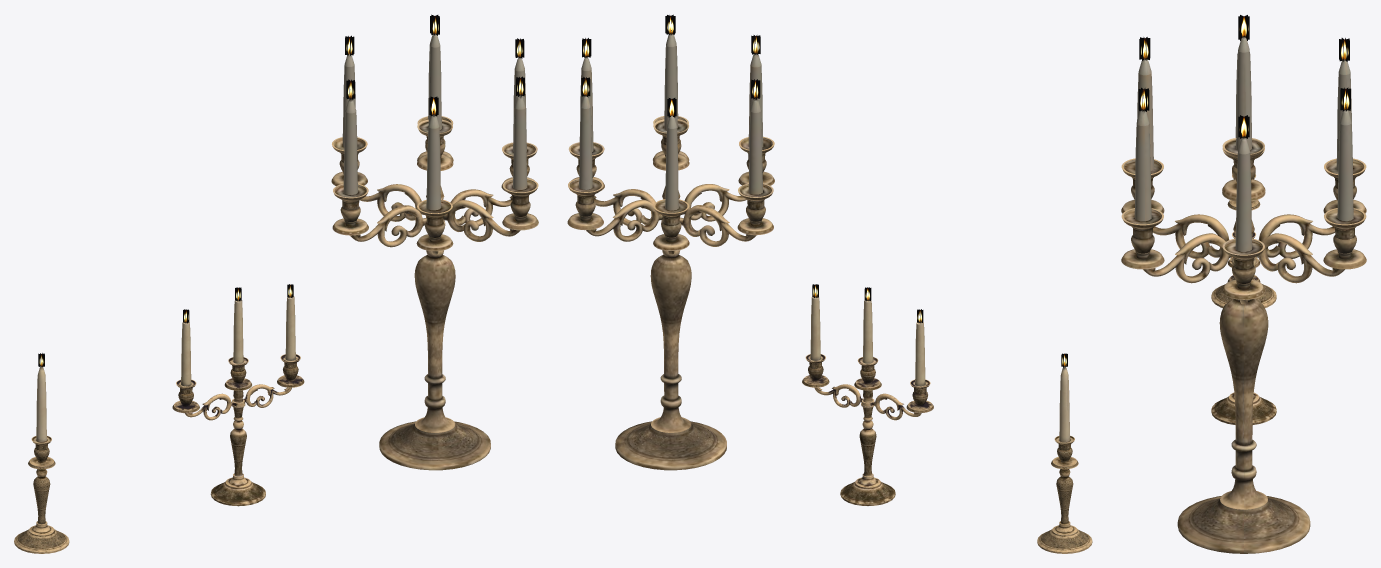
The model's file is brass_candleholders.glb.
3 views of the same model, side by side, from view 1: azimuth 30°, elevation 25°; view 2: azimuth 150°, elevation 25°; view 3: azimuth 270°, elevation 25° (orthographic). The views are drawn at different scales.
Parts seen in each view (by area): view 1: brass_candleholder_03, brass_candleholder_02, brass_candleholder_01; view 2: brass_candleholder_03, brass_candleholder_02, brass_candleholder_01; view 3: brass_candleholder_03, brass_candleholder_02, brass_candleholder_01.
Boxes of the visible parts, x1,y1,x2,y2 form: brass_candleholder_03: (331,14,538,470); brass_candleholder_02: (172,284,304,506); brass_candleholder_01: (14,353,69,553); brass_candleholder_03: (567,14,774,470); brass_candleholder_02: (802,284,933,505); brass_candleholder_01: (1037,353,1092,553); brass_candleholder_03: (1121,15,1366,553); brass_candleholder_02: (1211,232,1276,424); brass_candleholder_01: (1211,174,1276,307).
Size of the model in its own units: 1.05 by 0.8353 by 0.3647.
Materials: 5 (5 with a texture image).
